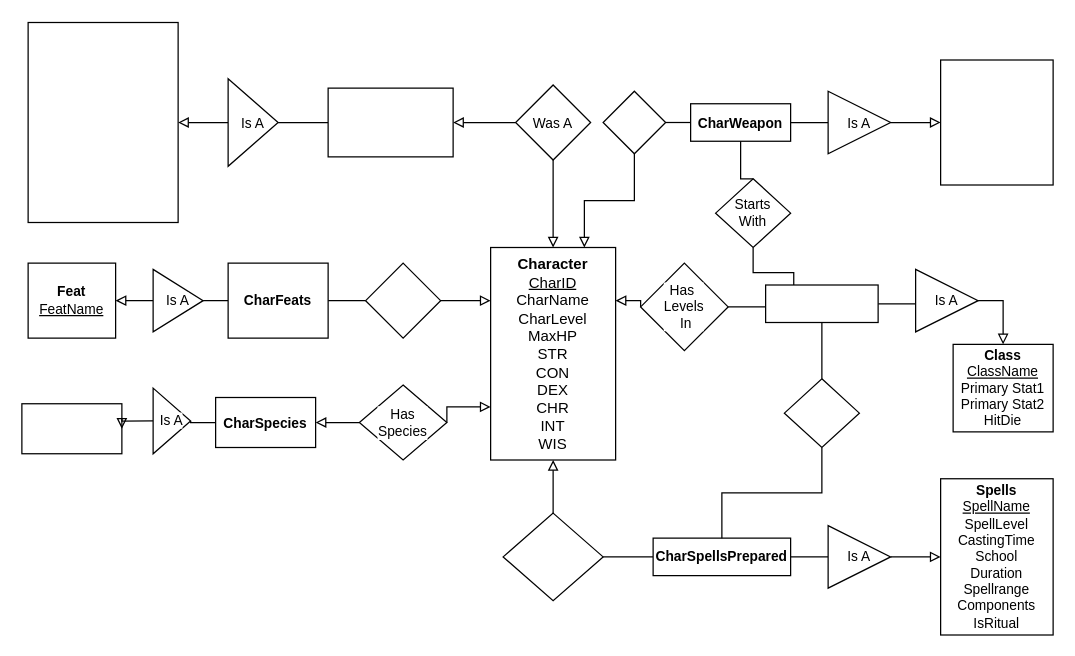
Some shapes in this 1075 by 656 pixel diagram are drawn without their labels. Each missing label, with the centre of its shape:
Background BackgroundName BackgroundProfiencies Languages: (x=102, y=121)
Can Learn: (x=821, y=413)
CharBackground: (x=390, y=122)
CharClasses: (x=821, y=303)
Has Feats: (x=402, y=300)
Has Prepared: (x=552, y=556)
Species SpeciesName: (x=71, y=428)
Weapon WeaponName Range DamageType Properties DamageDice: (x=996, y=122)
Wields: (x=634, y=122)
